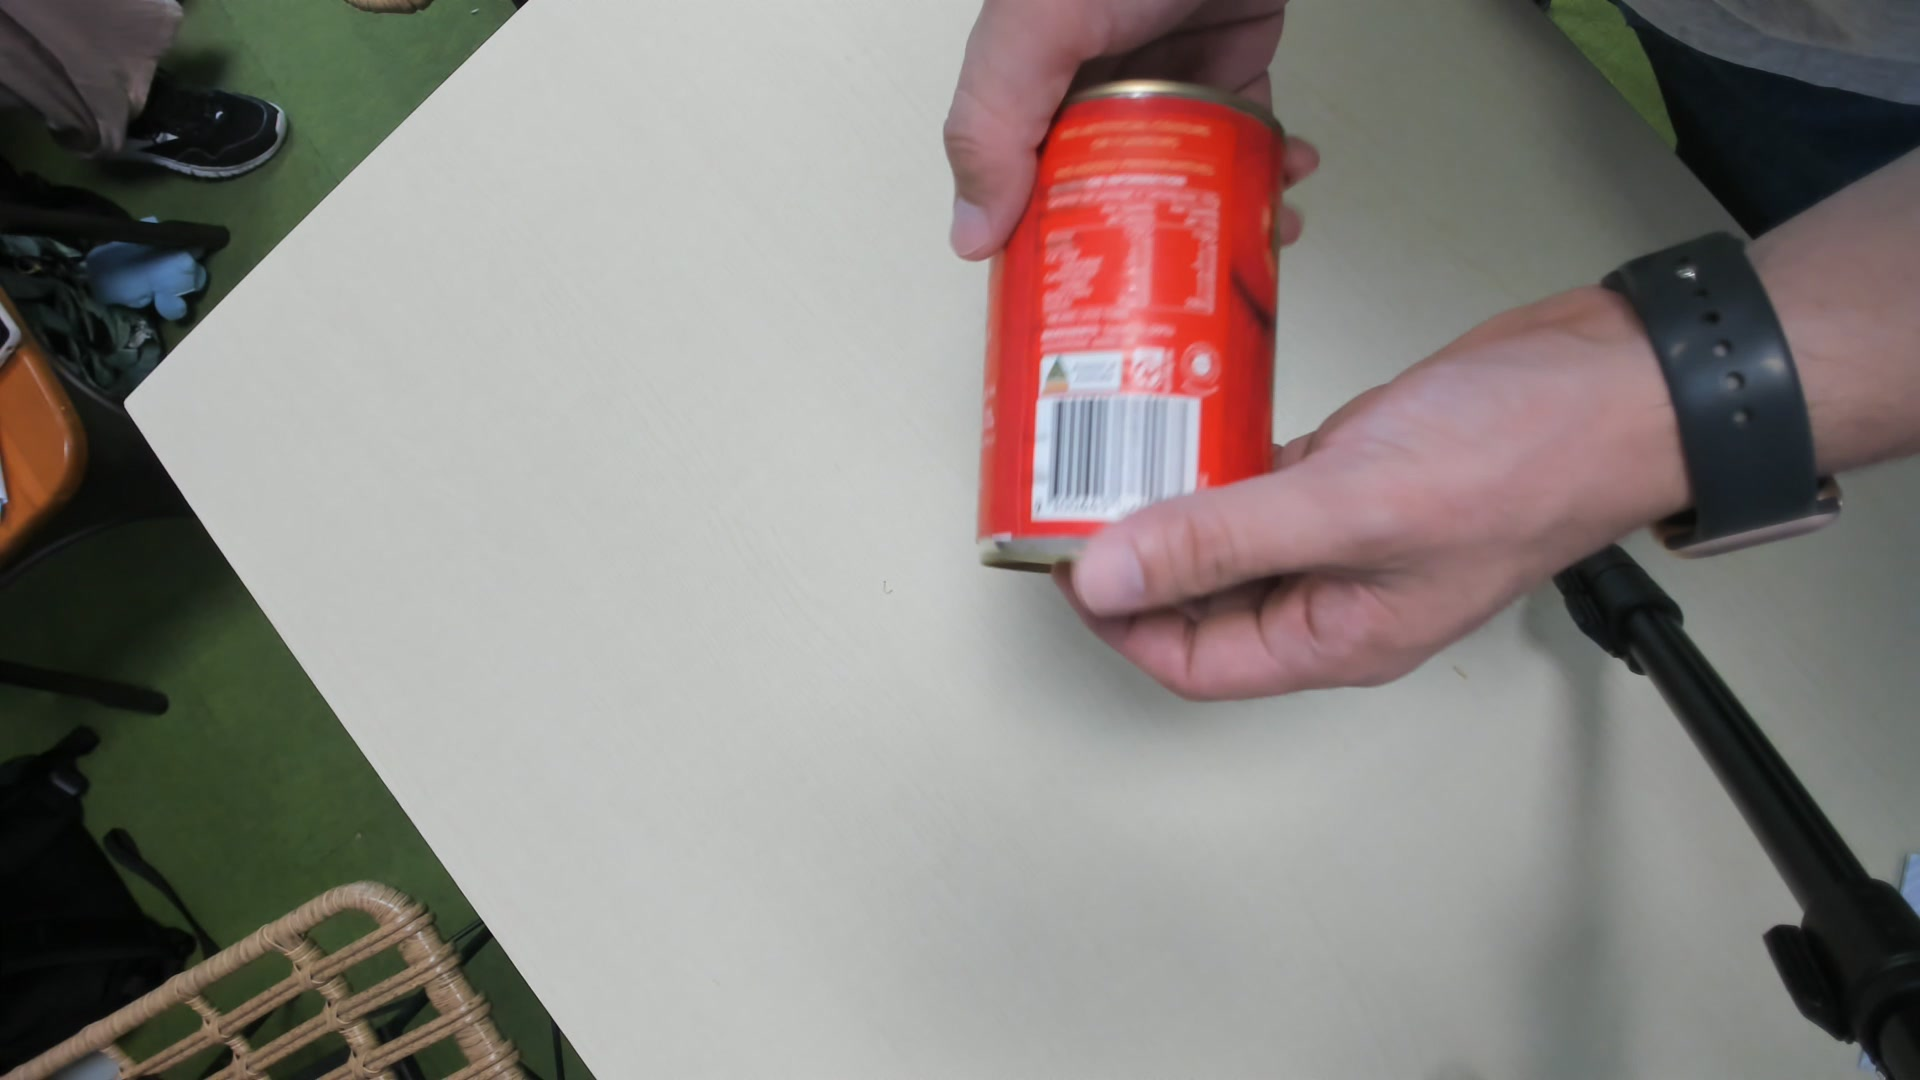OtherSauceDressingSoupbasePaste_400-499g_Halal_NonHealthy: (984, 83, 1284, 576)
